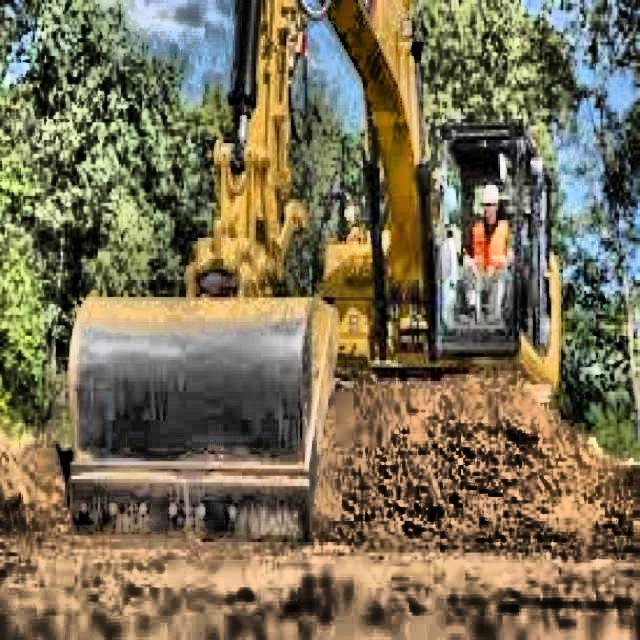bull_dozer/loader/grader: (60, 0, 564, 543)
person: (471, 182, 512, 278)
